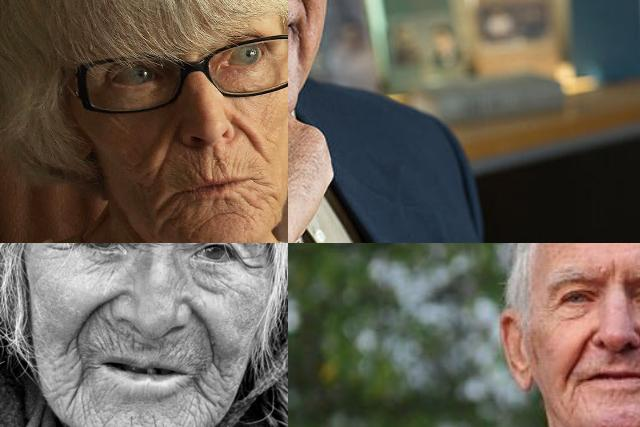chin: (201, 203, 253, 233), (84, 409, 114, 427), (172, 411, 194, 427)
crows_feet: (242, 252, 264, 280), (46, 243, 74, 257), (543, 296, 559, 316)
frown_line: (608, 258, 618, 283), (147, 243, 176, 251)
gummy_smile: (187, 302, 221, 352), (228, 118, 268, 160), (78, 292, 114, 334), (152, 134, 176, 184), (565, 328, 589, 378)
sad_smile: (63, 366, 89, 406), (150, 193, 178, 227), (192, 380, 220, 412), (254, 179, 282, 203), (564, 384, 578, 414)
smoker_lines: (94, 330, 128, 356), (190, 156, 230, 178), (170, 340, 202, 366)
